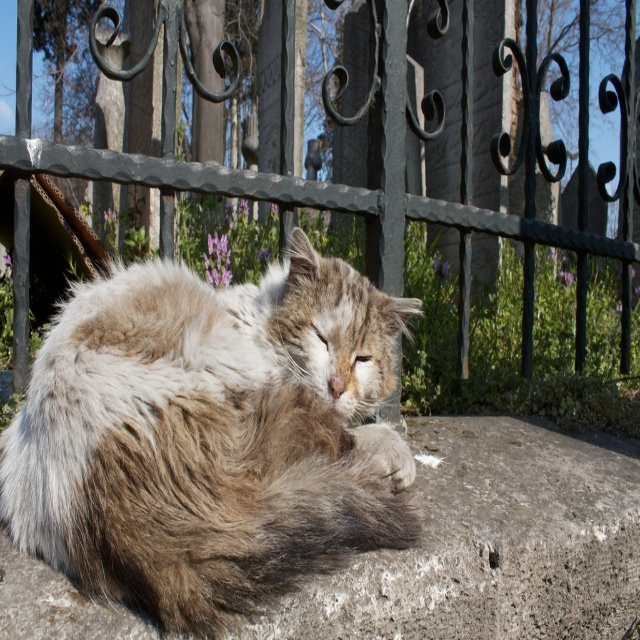Lynx: (0, 221, 423, 639)
